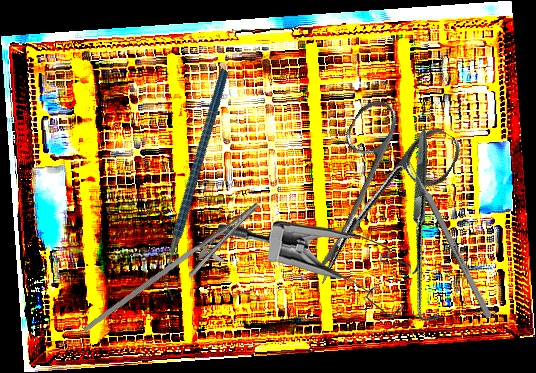Chopper: (96, 68, 299, 301)
Hook Surgical: (328, 127, 527, 328)
Iris Scissors: (273, 88, 466, 311)
Needle Holder: (82, 182, 271, 364)
Pusher: (401, 150, 493, 319)
Speculum: (218, 217, 421, 322)
